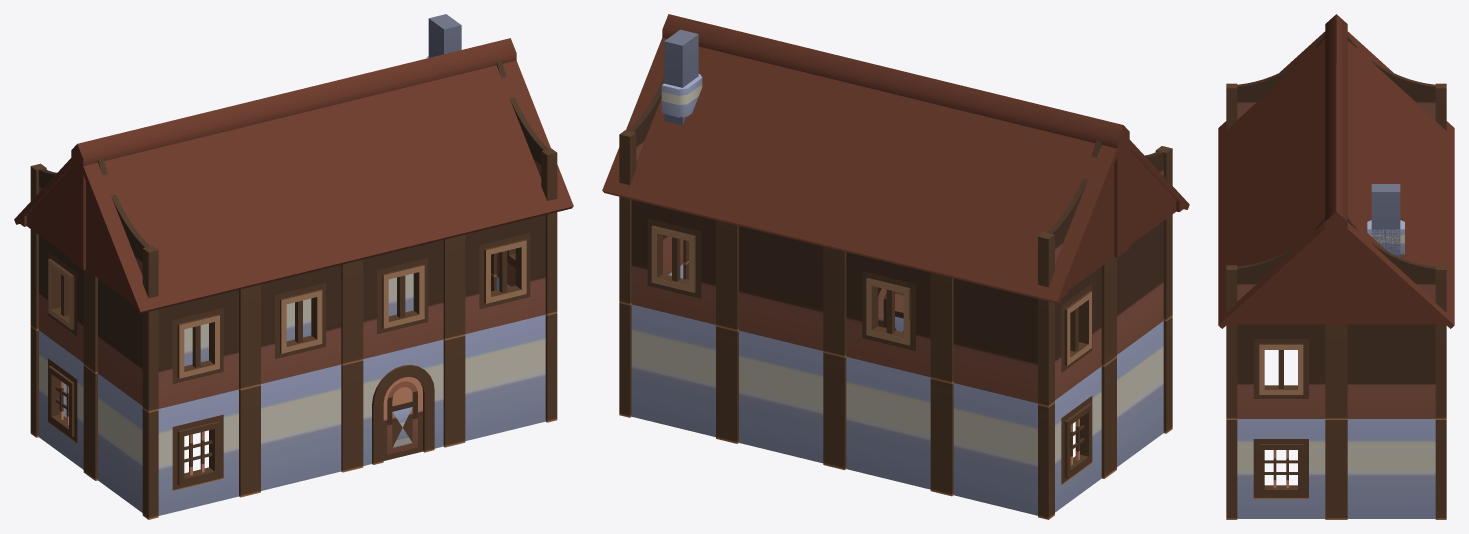
The model's file is maison-village-2.glb.
The picture shows the model from 3 angles, left to right: view 1: azimuth 30°, elevation 25°; view 2: azimuth 150°, elevation 25°; view 3: azimuth 270°, elevation 25°; orthographic projection. The views are drawn at different scales.
Visible parts, largest first — view 1: wall-window-shutters, roof-high; view 2: wall-window-shutters, roof-high; view 3: roof-high, wall-window-shutters.
Part boxes in pixels (x1,y1,x2,y2): wall-window-shutters: (30,14,557,519); roof-high: (14,38,573,314); wall-window-shutters: (619,29,1172,519); roof-high: (602,14,1189,303); roof-high: (1218,14,1454,328); wall-window-shutters: (1226,35,1446,519).
Size of the model in its own units: 12.72 by 9.6 by 6.42.
2 materials, 1 textured.
